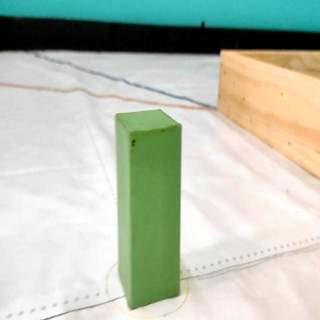greenbox: (115, 110, 183, 314)
